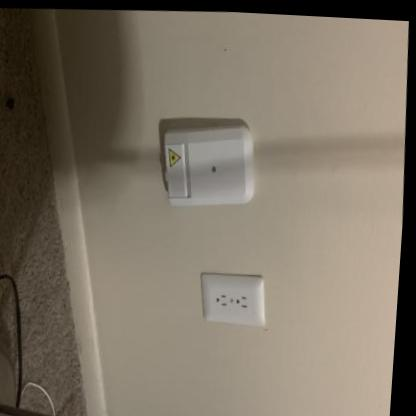OUTLET: (198, 270, 269, 328)
